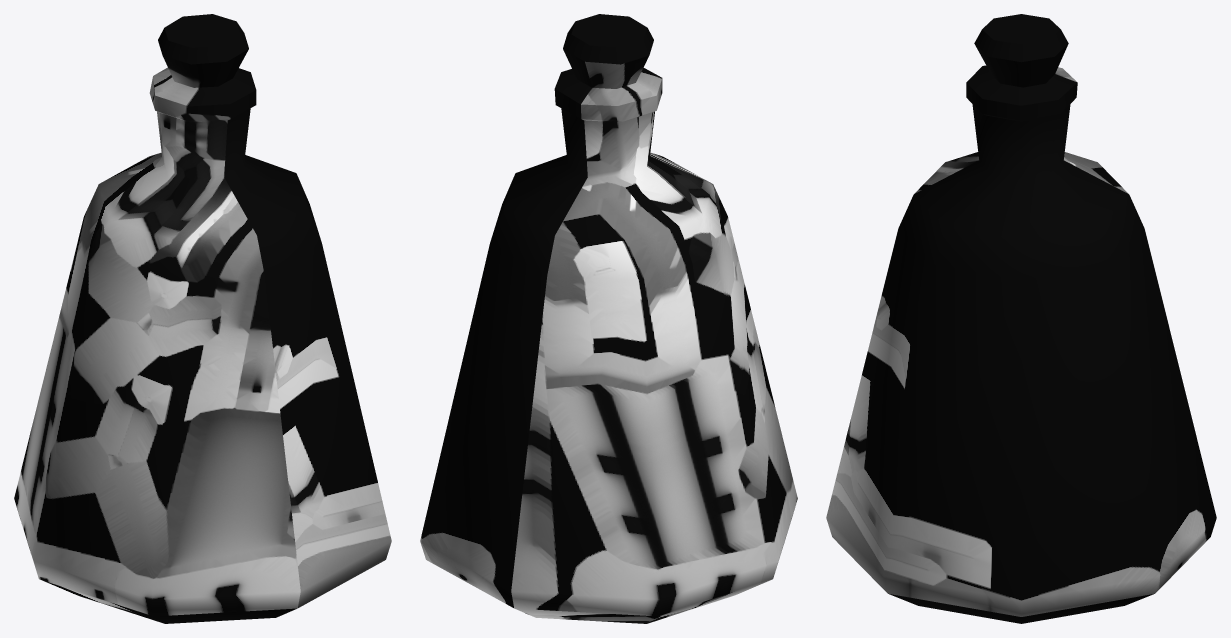
The model's file is Bottle4_V2.fbx.
The picture shows the model from 3 angles, left to right: view 1: azimuth 30°, elevation 25°; view 2: azimuth 150°, elevation 25°; view 3: azimuth 270°, elevation 25°; orthographic projection.
Parts seen in each view (by area): view 1: Bottle4_V2; view 2: Bottle4_V2; view 3: Bottle4_V2.
Boxes of the visible parts, bbox=[...] form: Bottle4_V2: bbox=[14, 14, 391, 623]; Bottle4_V2: bbox=[420, 14, 797, 623]; Bottle4_V2: bbox=[826, 14, 1216, 623].
Bounding box in the file's own units: 559 × 844 × 559.
